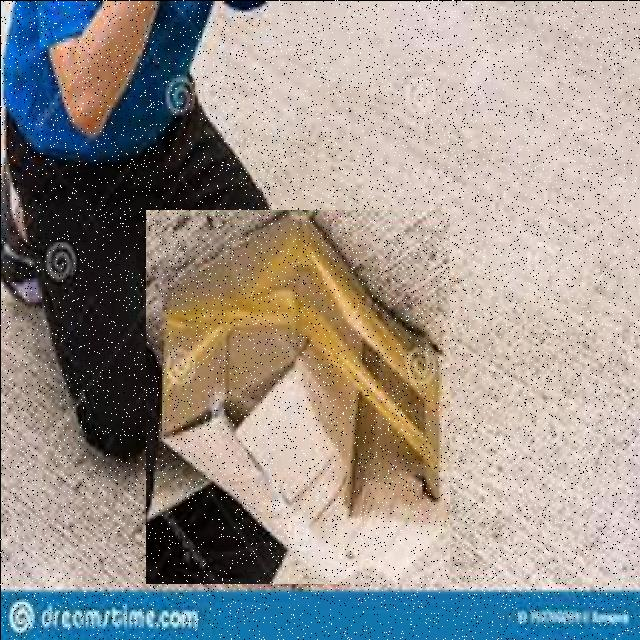defect: (145, 209, 449, 583)
